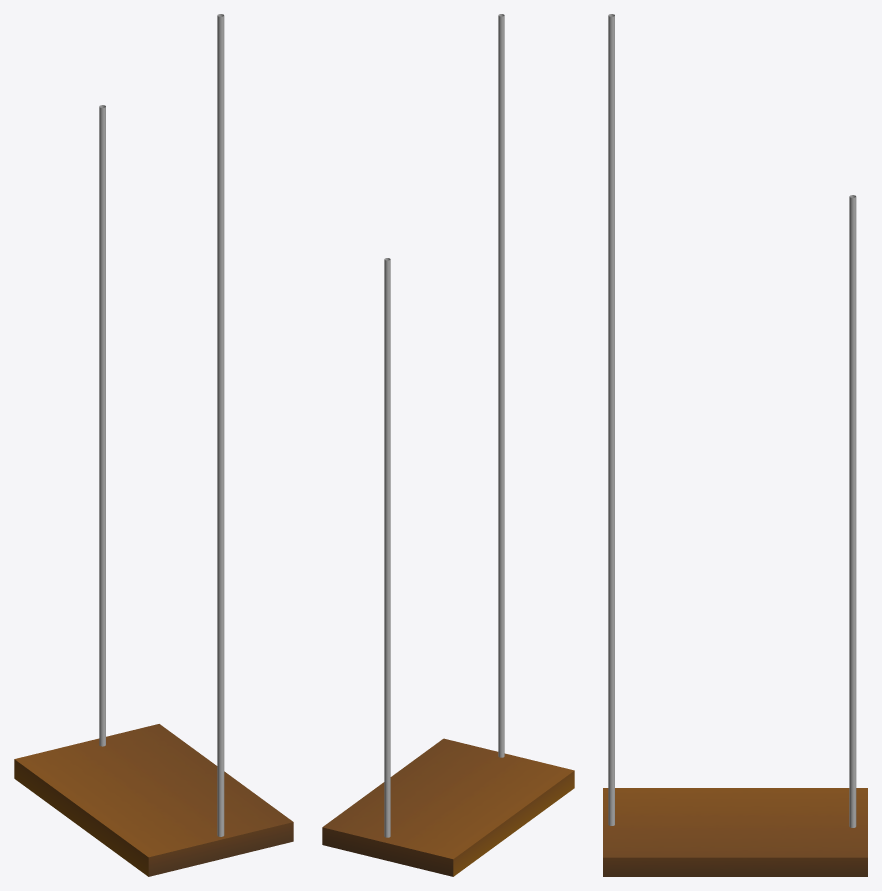
File: SM_Swings.fbx
3 views of the same model, side by side, from view 1: azimuth 30°, elevation 25°; view 2: azimuth 150°, elevation 25°; view 3: azimuth 270°, elevation 25° (orthographic). The views are drawn at different scales.
Parts seen in each view (by area): view 1: SM_Swings; view 2: SM_Swings; view 3: SM_Swings.
Boxes of the visible parts, x1,y1,x2,y2 form: SM_Swings: [14, 14, 293, 876]; SM_Swings: [322, 14, 574, 876]; SM_Swings: [603, 14, 867, 876].
Bounding box in the file's own units: 77.35 × 428 × 124.
